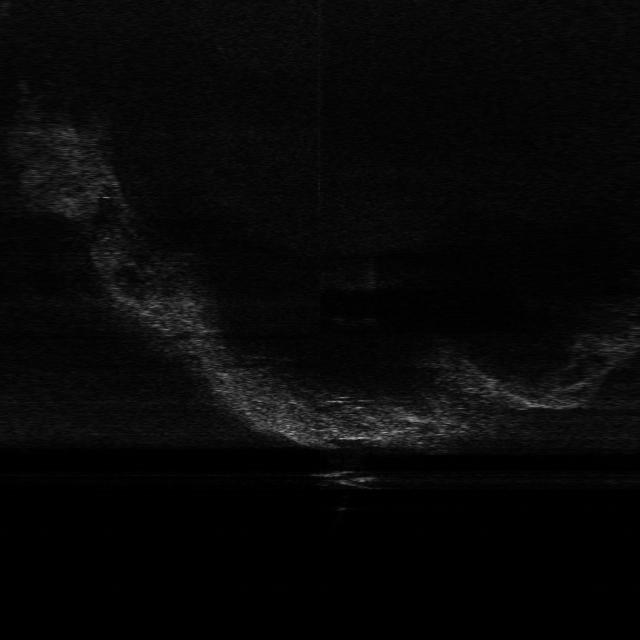plane: (308, 470, 391, 491)
